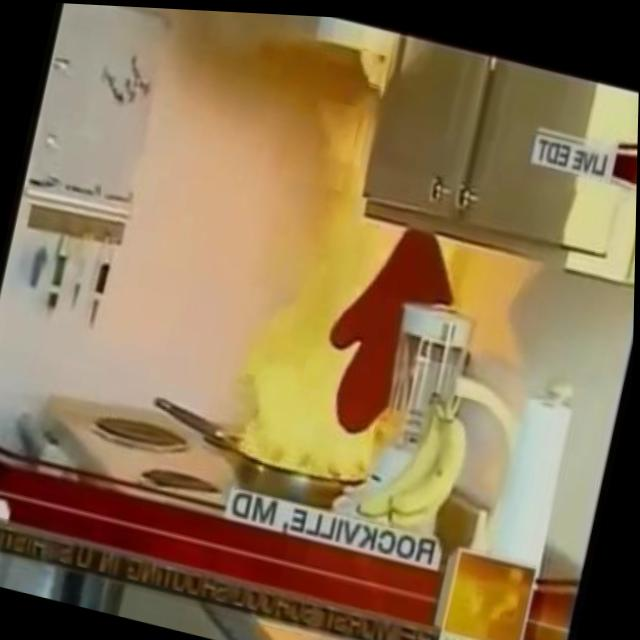fire: (223, 191, 438, 494)
